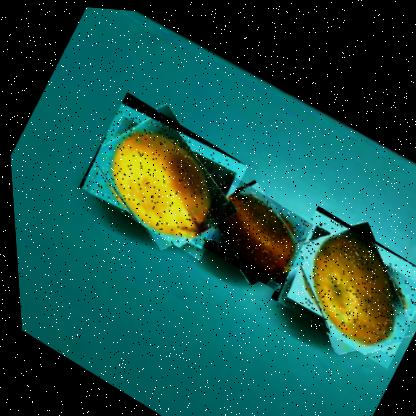orange_rotten: (69, 86, 250, 262), (259, 196, 415, 368), (185, 165, 314, 291)
